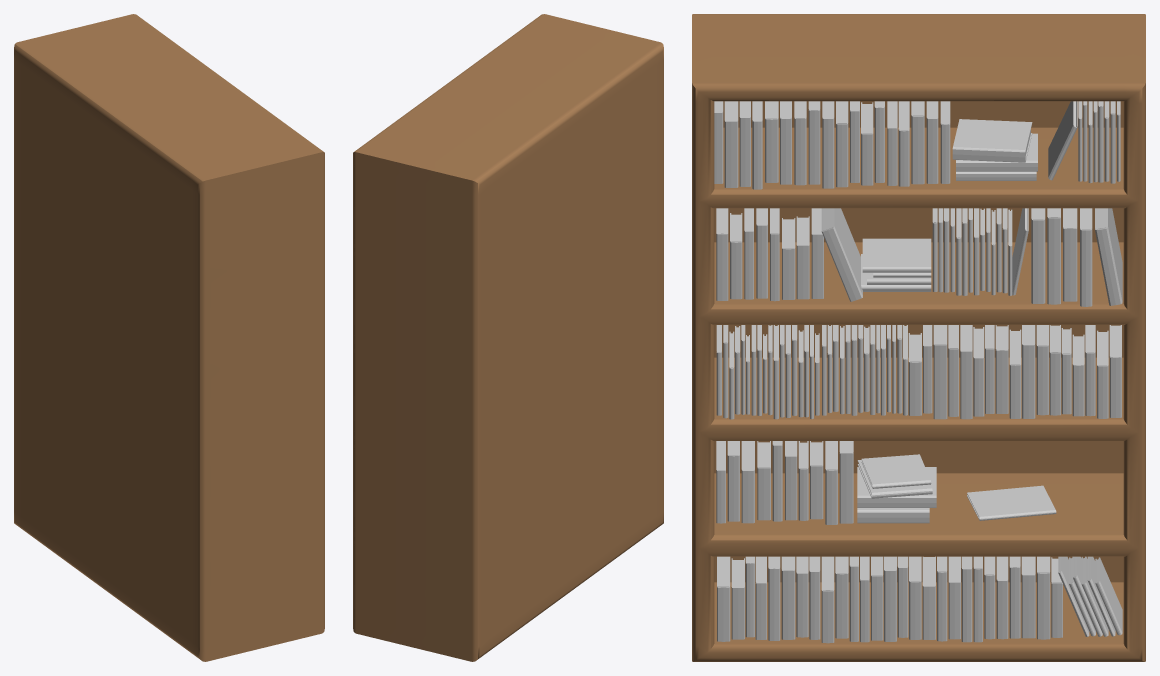
The model's file is bookshelf.fbx.
3 renders of one model, left to right at view 1: azimuth 30°, elevation 25°; view 2: azimuth 150°, elevation 25°; view 3: azimuth 270°, elevation 25°, orthographic. The views are drawn at different scales.
Parts seen in each view (by area): view 1: pCube6; view 2: pCube6; view 3: pCube6, book.071, book.116, book.149, book.028, book.033, book.152, book.029, book.076, book.031, book, book.030 (+87 smaller).
Boxes of the visible parts, x1=… form: pCube6: x1=14, y1=14, x2=324, y2=661; pCube6: x1=353, y1=14, x2=663, y2=661; pCube6: x1=692, y1=14, x2=1145, y2=661; book.071: x1=952, y1=119, x2=1032, y2=162; book.116: x1=862, y1=238, x2=931, y2=272; book.149: x1=967, y1=485, x2=1056, y2=520; book.028: x1=821, y1=208, x2=862, y2=301; book.033: x1=1095, y1=208, x2=1122, y2=305; book.152: x1=861, y1=454, x2=931, y2=488; book.029: x1=1031, y1=208, x2=1045, y2=303; book.076: x1=933, y1=325, x2=947, y2=419; book.031: x1=1063, y1=208, x2=1077, y2=301; book: x1=857, y1=467, x2=936, y2=507; book.030: x1=1047, y1=208, x2=1060, y2=304.
Size of the model in its own units: 58.93 by 214 by 152.
